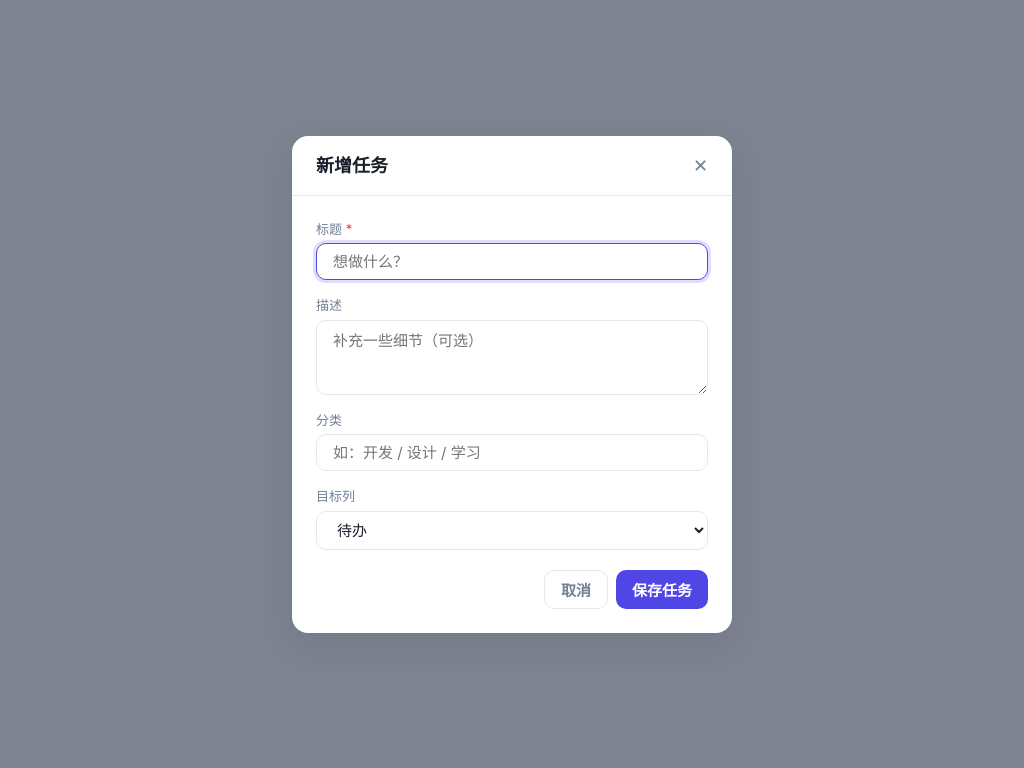
it: AddTaskModal › 分类输入按关键字过滤建议
In the field labelled "分类": (512, 452) [316,434,708,471], type "开"
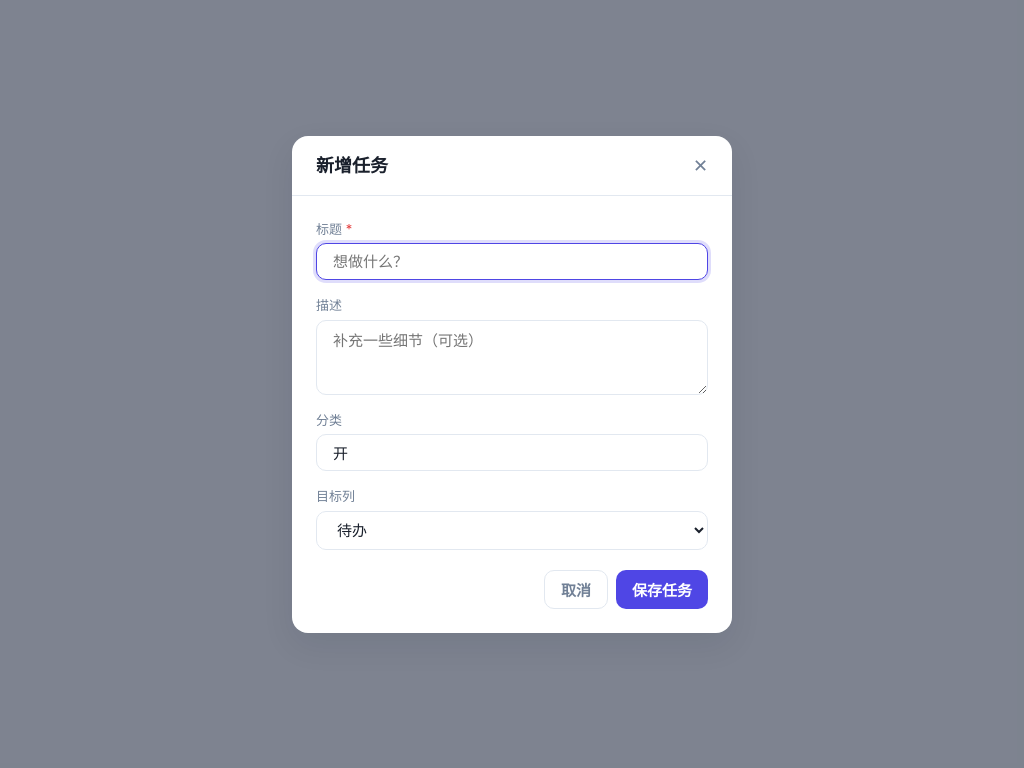
Focus the field labelled "分类": (512, 452) [316,434,708,471]
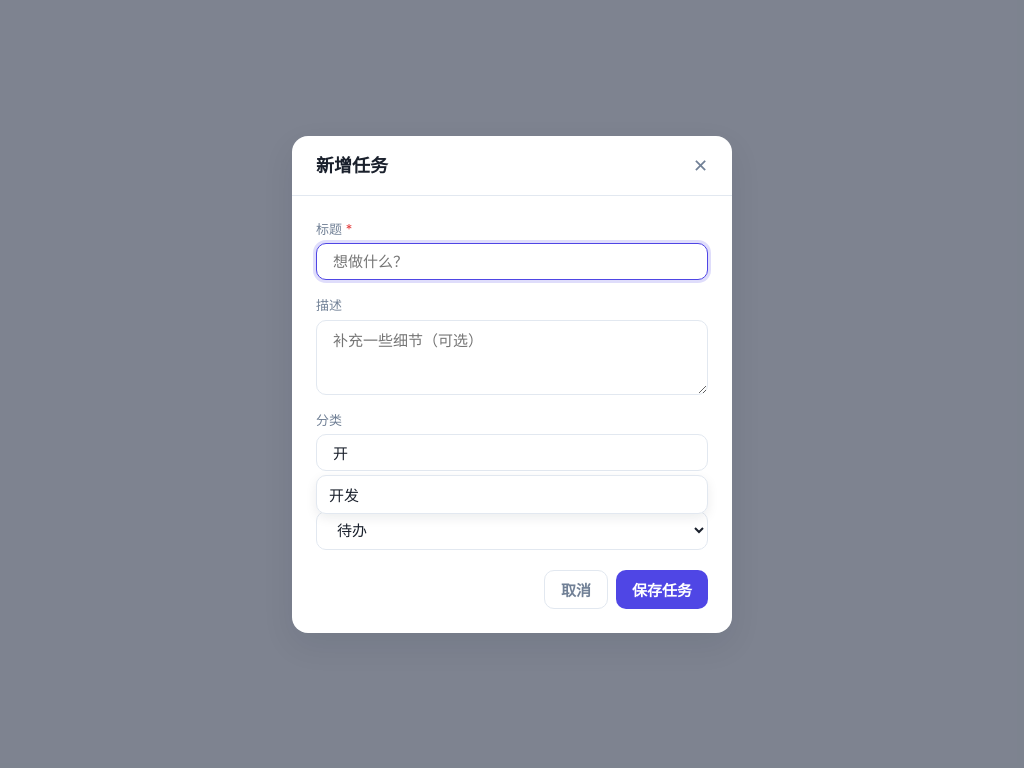
Check: the button "开发" is shown, box [321,480,703,509]
